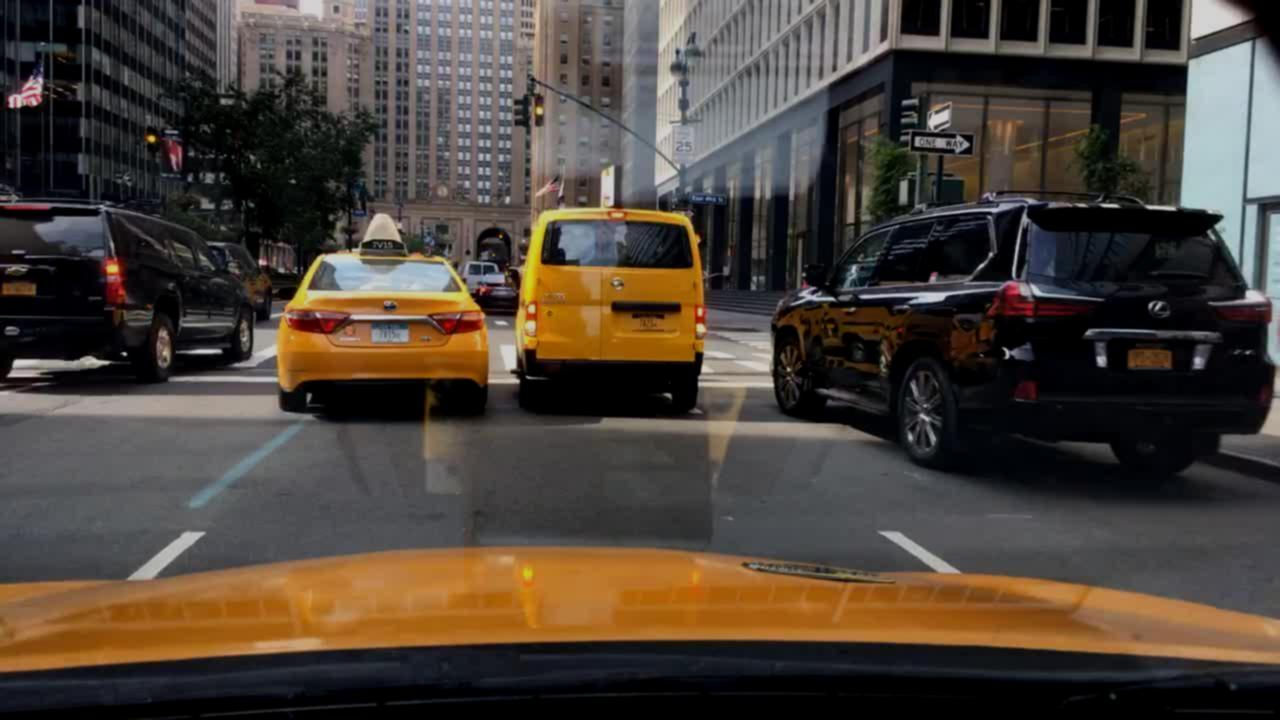Nissan: (607, 274, 630, 293)
Toyota: (378, 298, 404, 315)
chevrolet: (0, 261, 33, 280)
lexus: (1139, 296, 1177, 323)
